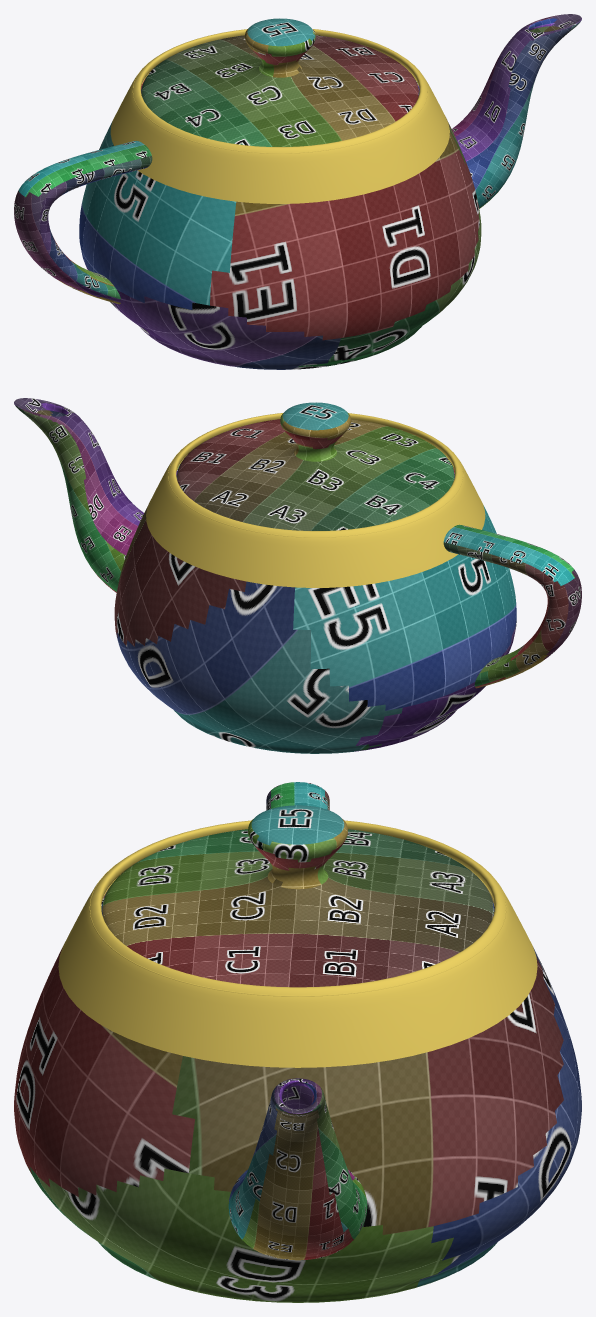
File: teapot_uv.glb
3 views of the same model, one above another, from view 1: azimuth 30°, elevation 25°; view 2: azimuth 150°, elevation 25°; view 3: azimuth 270°, elevation 25° (orthographic). The views are drawn at different scales.
Visible parts, largest first — view 1: Teapot Body, Teapot Lid, Teapot Spout, Teapot Handle; view 2: Teapot Body, Teapot Lid, Teapot Spout, Teapot Handle; view 3: Teapot Body, Teapot Lid, Teapot Spout, Teapot Handle.
Boxes of the visible parts, x1,y1,x2,y2 form: Teapot Body: (79,29,481,369); Teapot Lid: (141,18,419,146); Teapot Spout: (452,14,581,208); Teapot Handle: (14,140,152,304); Teapot Body: (114,413,516,753); Teapot Lid: (176,402,454,530); Teapot Spout: (14,398,143,592); Teapot Handle: (443,524,581,688); Teapot Body: (14,820,581,1302); Teapot Lid: (101,805,494,987); Teapot Spout: (228,1078,367,1260); Teapot Handle: (266,782,329,810).
Bounding box in the file's own units: 0.3209 × 0.1574 × 0.1981.
Materials: 2 (1 with a texture image).
